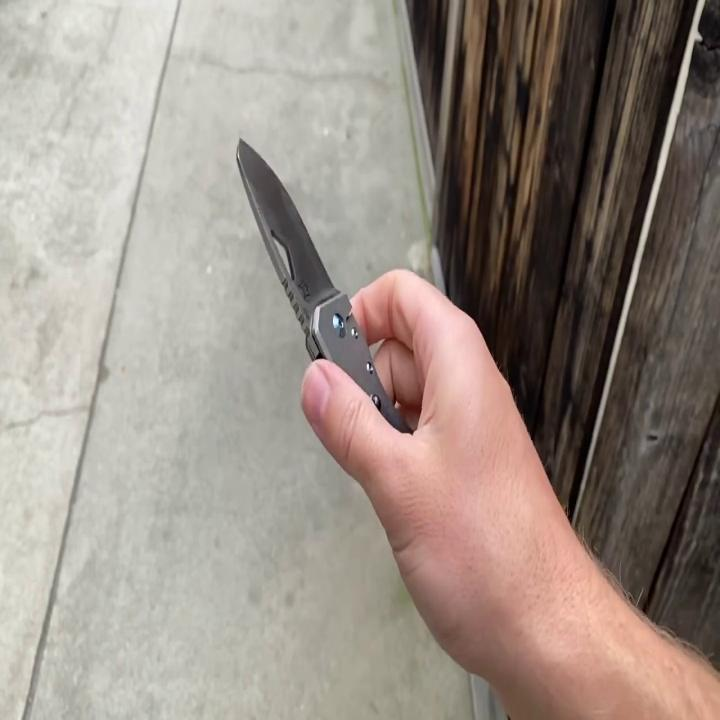knife: (234, 132, 417, 440)
